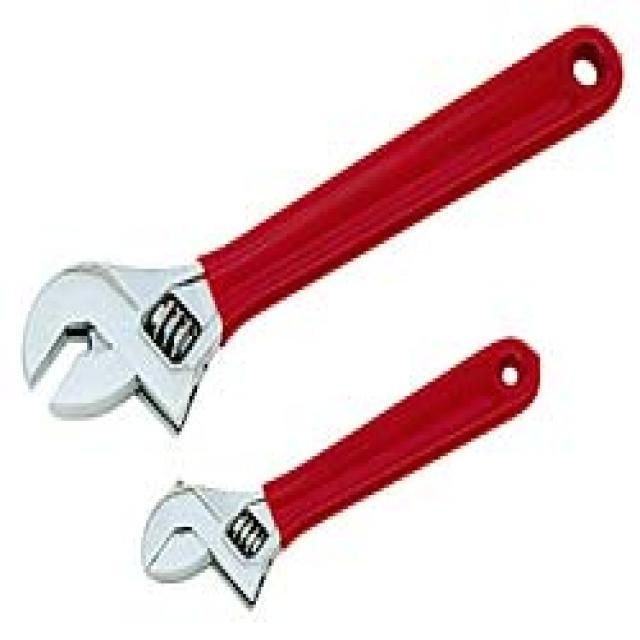wrench: (13, 19, 628, 434), (138, 323, 550, 611)
